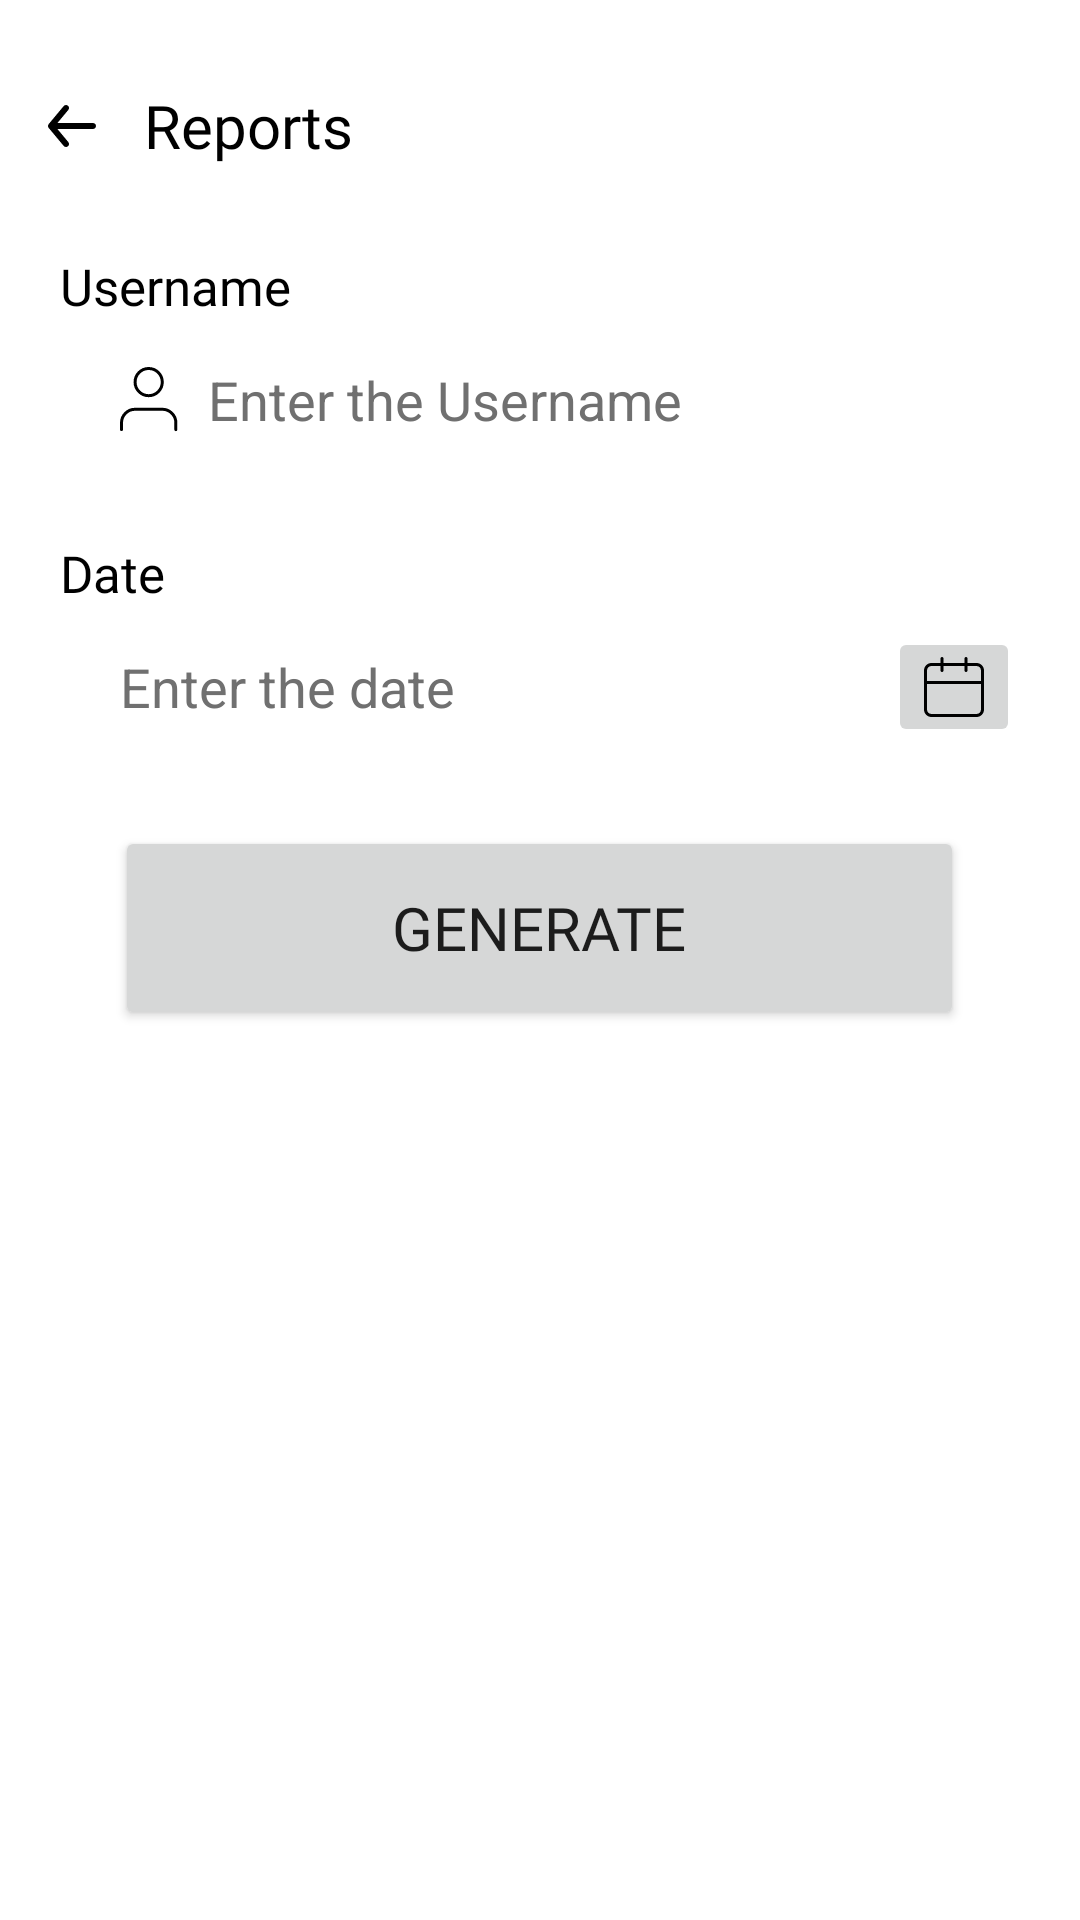

Icon click points for this 1080 × 1920 phone screenshot, format point (x, y):
back: point (72, 126)
clender: point (954, 687)
